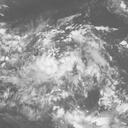cyclone: (27, 25, 102, 91)
